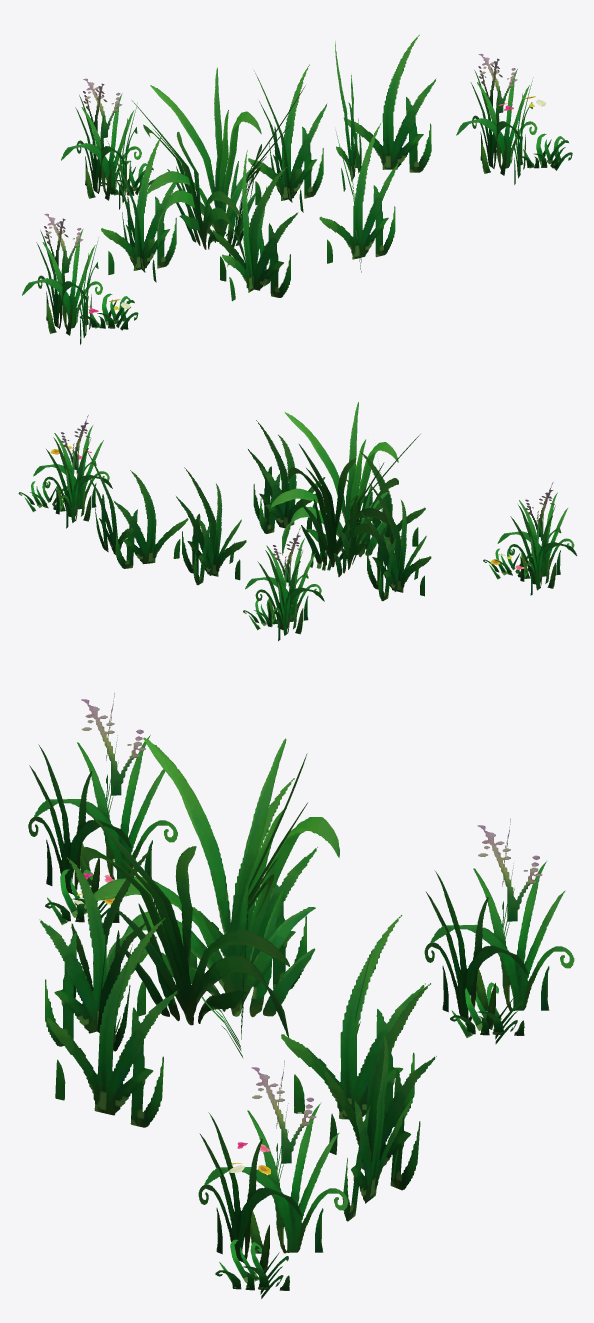
Rendered from zhucheng_xiaocao.FBX.
3 views of the same model, one above another, from view 1: azimuth 30°, elevation 25°; view 2: azimuth 150°, elevation 25°; view 3: azimuth 270°, elevation 25° (orthographic). The views are drawn at different scales.
Visible parts, largest first — view 1: zhucheng_xiaocao03, zhucheng_xiaocao06, zhucheng_xiaocao01, zhucheng_xiaocao07, zhucheng_xiaocao04, zhucheng_xiaocao02, zhucheng_xiaocao05; view 2: zhucheng_xiaocao03, zhucheng_xiaocao06, zhucheng_xiaocao01, zhucheng_xiaocao07, zhucheng_xiaocao04, zhucheng_xiaocao05, zhucheng_xiaocao02; view 3: zhucheng_xiaocao03, zhucheng_xiaocao06, zhucheng_xiaocao07, zhucheng_xiaocao04, zhucheng_xiaocao01, zhucheng_xiaocao05, zhucheng_xiaocao02.
Boxes of the visible parts, x1,y1,x2,y2 form: zhucheng_xiaocao03: (101,67,305,282); zhucheng_xiaocao06: (248,34,436,212); zhucheng_xiaocao01: (22,213,138,344); zhucheng_xiaocao07: (456,53,572,184); zhucheng_xiaocao04: (61,78,154,209); zhucheng_xiaocao02: (212,150,298,301); zhucheng_xiaocao05: (319,123,398,272); zhucheng_xiaocao03: (271,402,431,601); zhucheng_xiaocao06: (85,448,246,585); zhucheng_xiaocao01: (483,482,577,595); zhucheng_xiaocao07: (18,415,112,528); zhucheng_xiaocao04: (243,527,324,641); zhucheng_xiaocao05: (248,420,325,533); zhucheng_xiaocao02: (346,451,425,549); zhucheng_xiaocao03: (82,737,339,1058); zhucheng_xiaocao06: (281,915,436,1221); zhucheng_xiaocao07: (198,1060,348,1298); zhucheng_xiaocao04: (424,818,574,1044); zhucheng_xiaocao01: (28,693,177,925); zhucheng_xiaocao05: (47,918,178,1127); zhucheng_xiaocao02: (39,849,156,1051).
Size of the model in its own units: 236 by 70.03 by 124.
